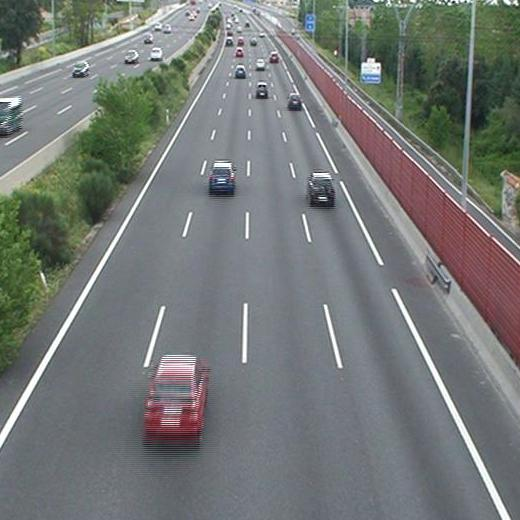car: (144, 356, 205, 432), (308, 174, 336, 202), (209, 163, 234, 192), (288, 95, 301, 109), (256, 84, 268, 98), (235, 66, 245, 77), (269, 52, 279, 63), (255, 59, 265, 69), (224, 38, 233, 46), (236, 37, 244, 46), (235, 48, 242, 56), (249, 37, 255, 45)
